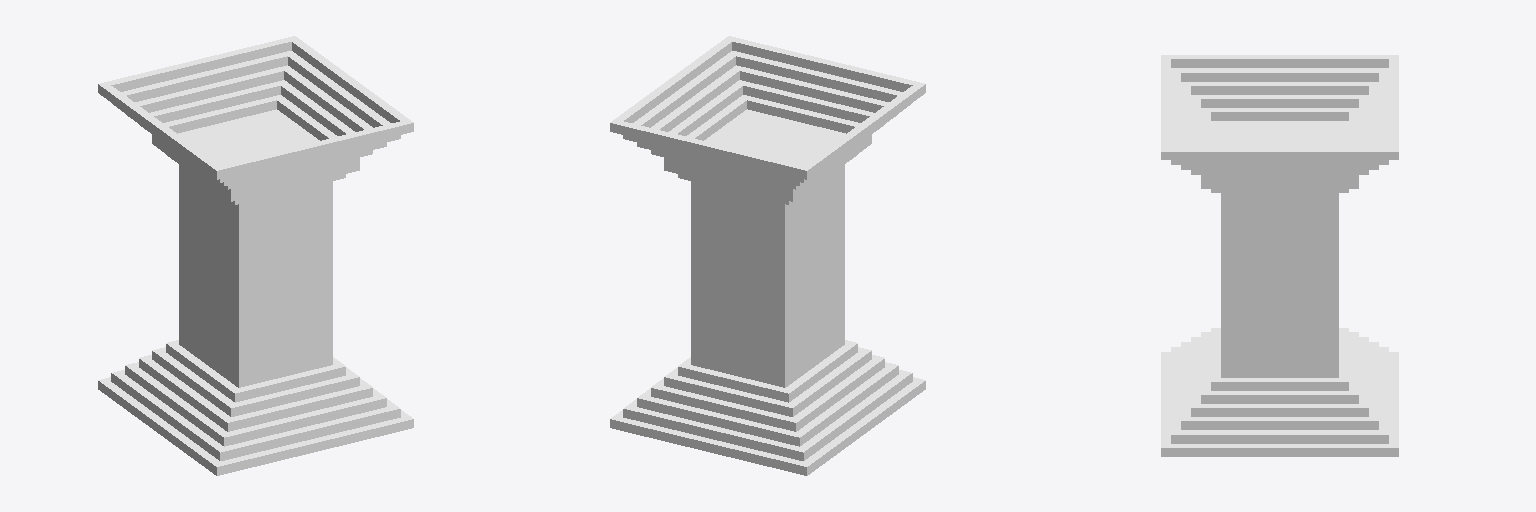
The model's file is GreenLanternFountain.obj.
3 views of the same model, side by side, from view 1: azimuth 30°, elevation 25°; view 2: azimuth 150°, elevation 25°; view 3: azimuth 270°, elevation 25° (orthographic).
Visible parts, largest first — view 1: GreenLanternFountain; view 2: GreenLanternFountain; view 3: GreenLanternFountain.
Boxes of the visible parts, box(x1,y1,x2,y2) form: GreenLanternFountain: box(98, 36, 413, 475); GreenLanternFountain: box(610, 36, 925, 475); GreenLanternFountain: box(1161, 55, 1398, 456).
Bounding box in the file's own units: 23 × 34 × 24.